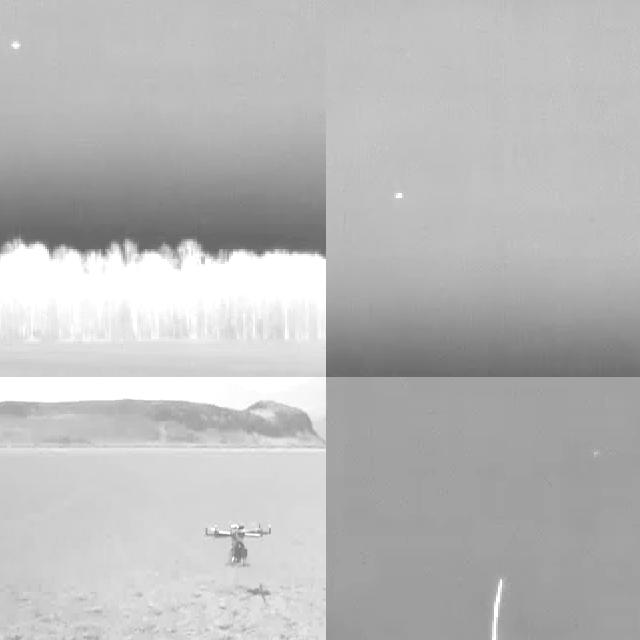0: (582, 442, 604, 467)
1: (378, 182, 410, 216), (0, 34, 24, 61)
drone: (202, 520, 274, 568)
